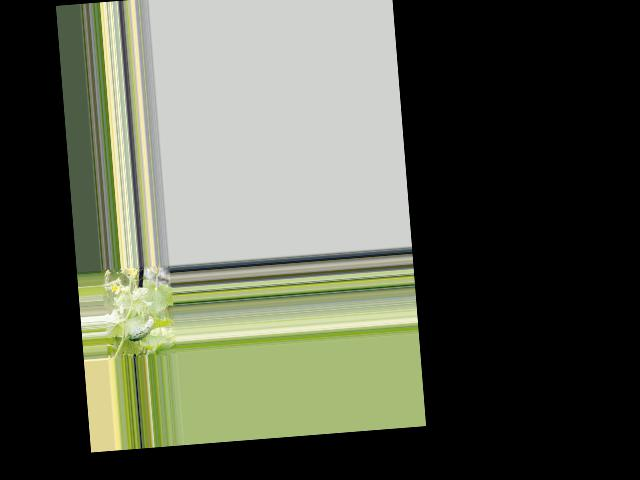cucumber: (125, 315, 155, 341)
